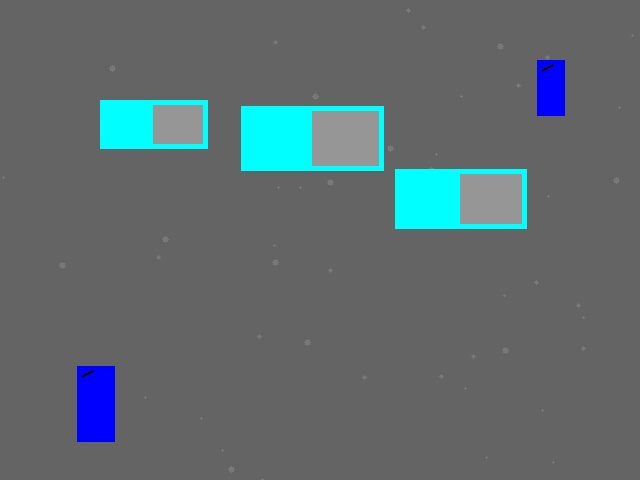motorcycle: (77, 366, 114, 441), (537, 60, 564, 115)
truck: (241, 106, 383, 170), (395, 169, 526, 228), (100, 100, 207, 148)
